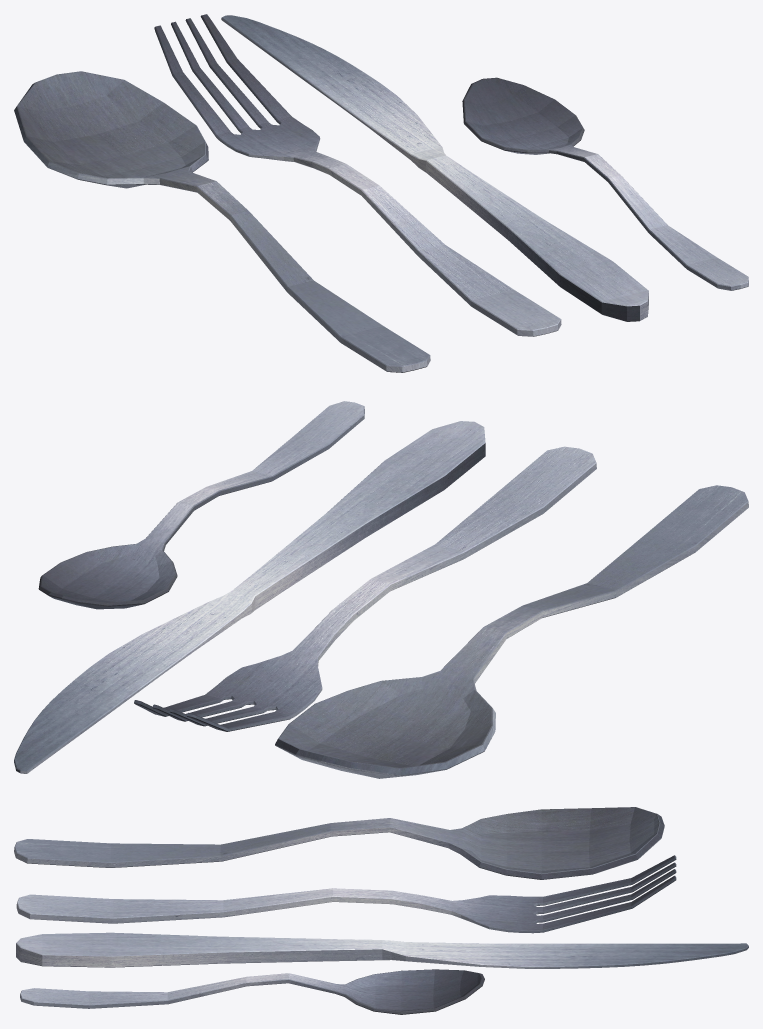
The model's file is cutlery.obj.
3 views of the same model, one above another, from view 1: azimuth 30°, elevation 25°; view 2: azimuth 150°, elevation 25°; view 3: azimuth 270°, elevation 25° (orthographic). The views are drawn at different scales.
Visible parts, largest first — view 1: Tablespoon, Knife, Fork, Teaspoon; view 2: Tablespoon, Knife, Fork, Teaspoon; view 3: Tablespoon, Knife, Fork, Teaspoon.
Boxes of the visible parts, x1=… form: Tablespoon: x1=14, y1=71, x2=430, y2=372; Knife: x1=221, y1=15, x2=648, y2=321; Fork: x1=154, y1=14, x2=561, y2=336; Teaspoon: x1=462, y1=77, x2=748, y2=290; Tablespoon: x1=275, y1=485, x2=748, y2=778; Knife: x1=14, y1=421, x2=485, y2=773; Fork: x1=134, y1=446, x2=596, y2=731; Teaspoon: x1=38, y1=401, x2=364, y2=609; Tablespoon: x1=14, y1=807, x2=664, y2=879; Knife: x1=16, y1=932, x2=748, y2=968; Fork: x1=16, y1=855, x2=676, y2=933; Teaspoon: x1=20, y1=969, x2=484, y2=1014.
Bounding box in the file's own units: 14.3 × 1.69 × 22.37.
1 material, 1 textured.
